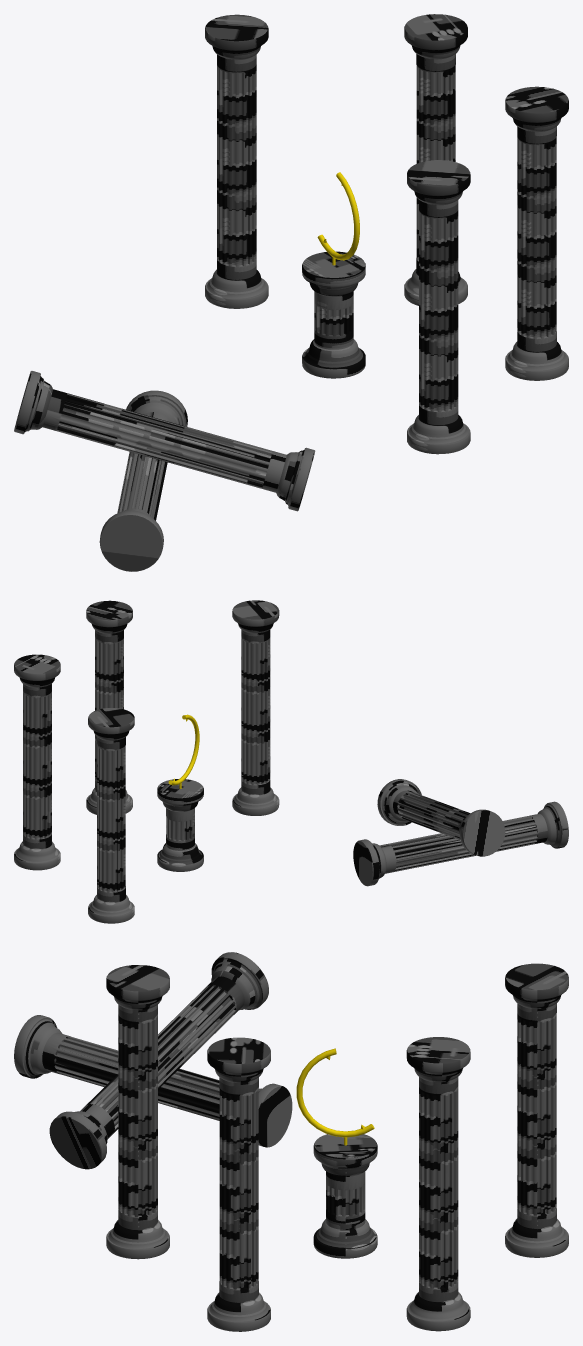
The model's file is models.gltf.
3 renders of one model, top to bottom at view 1: azimuth 30°, elevation 25°; view 2: azimuth 150°, elevation 25°; view 3: azimuth 270°, elevation 25°, orthographic. The views are drawn at different scales.
Visible parts, largest first — view 1: models; view 2: models; view 3: models.
Boxes of the visible parts, x1,y1,x2,y2 form: models: (14,14,568,571); models: (14,600,568,923); models: (14,952,568,1331).
Size of the model in its own units: 16.87 by 7.86 by 14.49.
2 materials, 1 textured.
